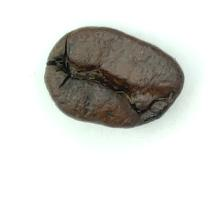NG: (75, 40, 162, 124)
